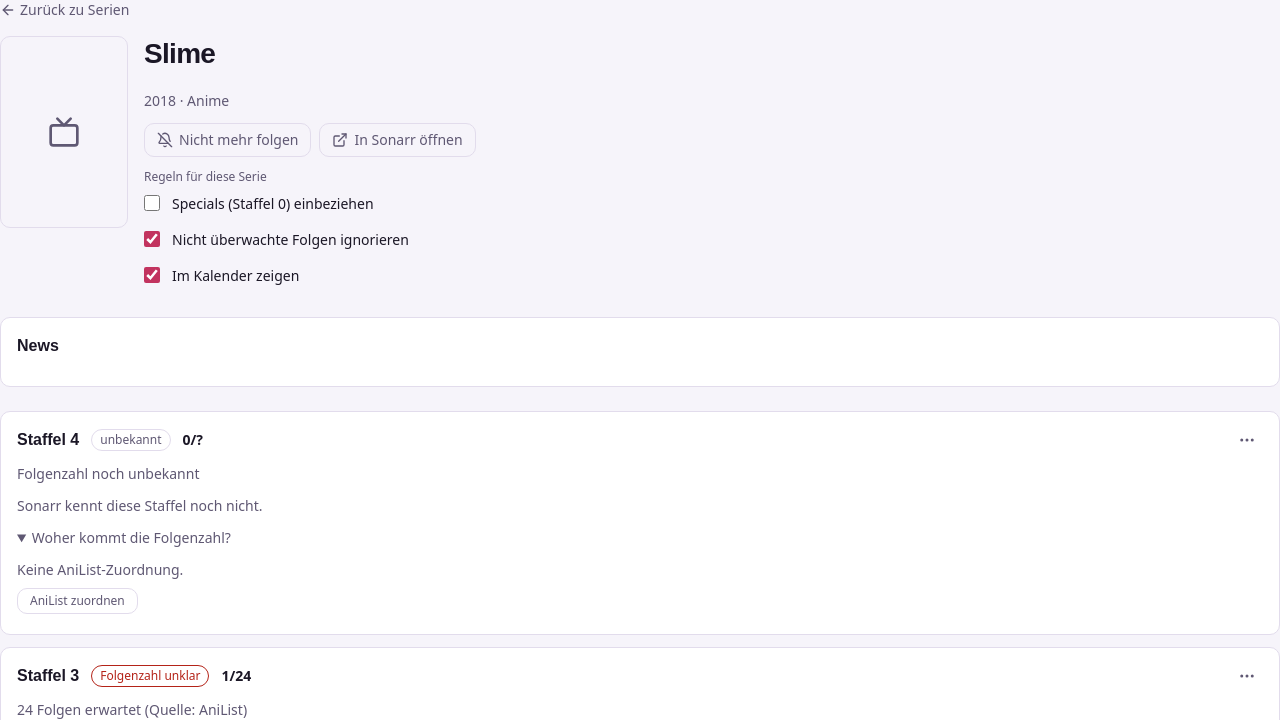
Test: the episode count override sits behind the season menu
The image size is (1280, 720).
Expected: the heading "Slime" is shown, x1=144 y1=38 x2=215 y2=69
Expected: the field labelled "Folgenzahl selbst festlegen" is not shown
Click the button named "Einstellungen für Staffel 3". click: (1247, 676)
box: x1=1231 y1=664 x2=1263 y2=688
(page scrolled)
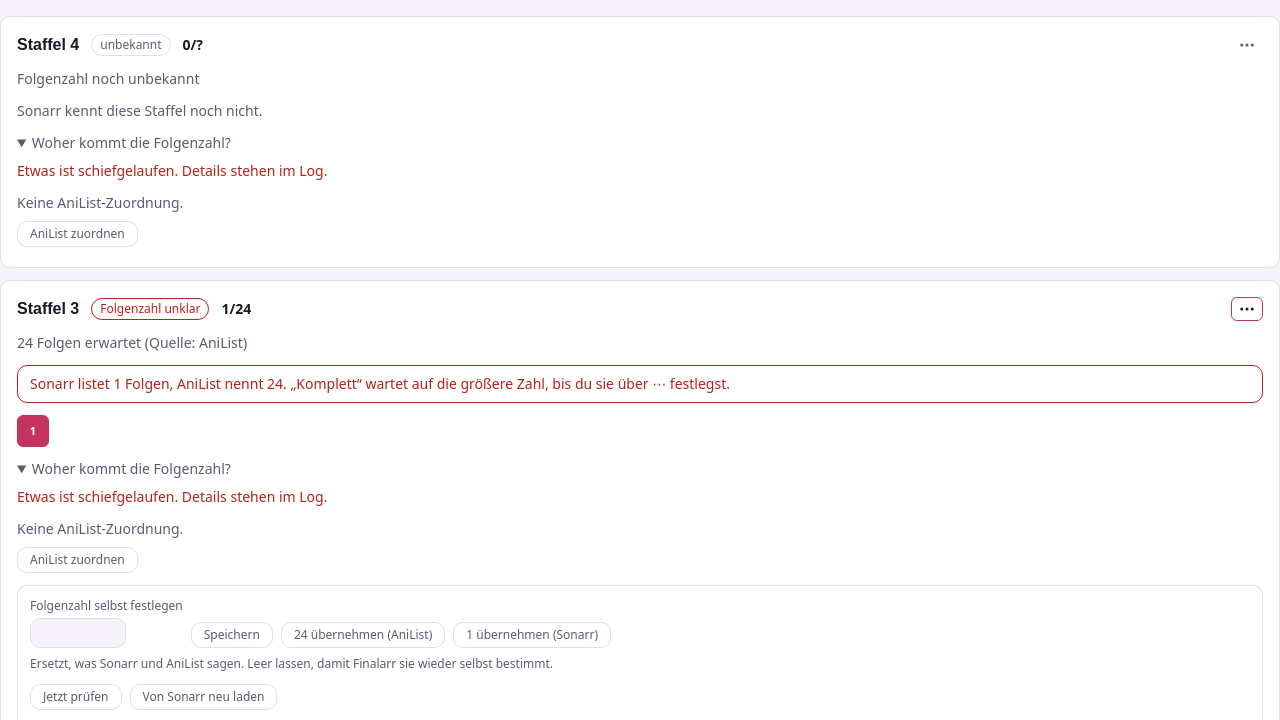
Result: the button named "Einstellungen für Staffel 3" is expanded at x1=1231 y1=297 x2=1263 y2=321
Result: the number field labelled "Folgenzahl selbst festlegen" is shown at x1=30 y1=618 x2=126 y2=648
Result: the text "Ersetzt, was Sonarr und AniList sagen" is shown at x1=30 y1=655 x2=553 y2=672
